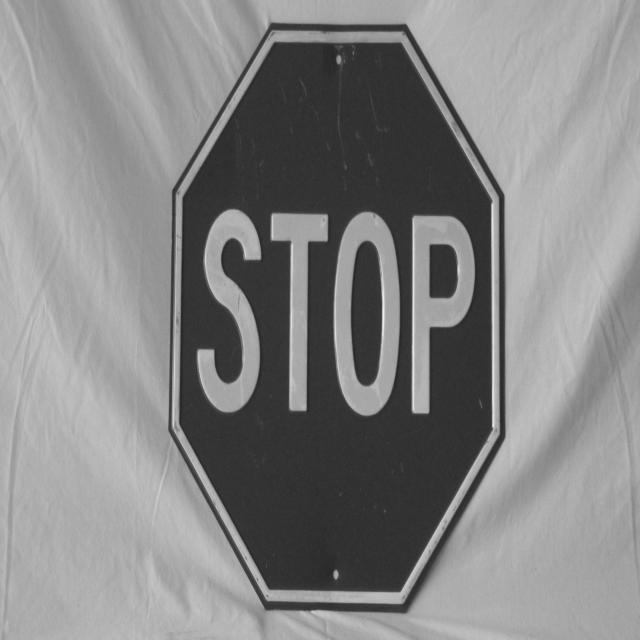Stop-sign: (146, 0, 514, 638)
